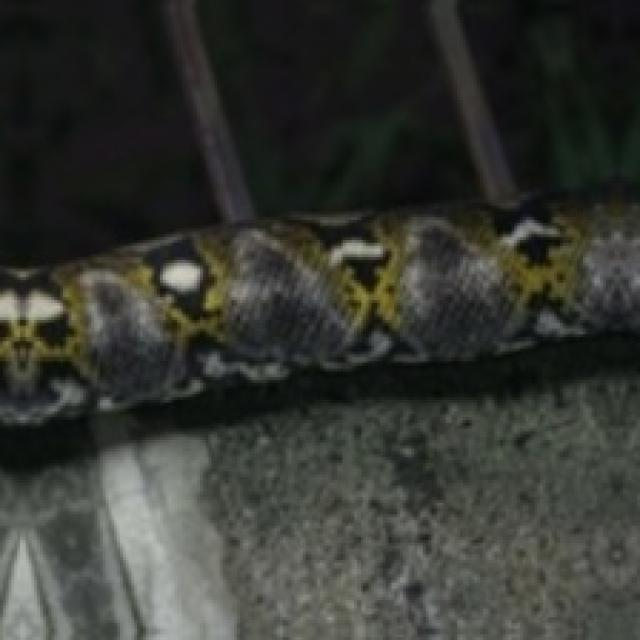reticulated python: (0, 203, 637, 423)
